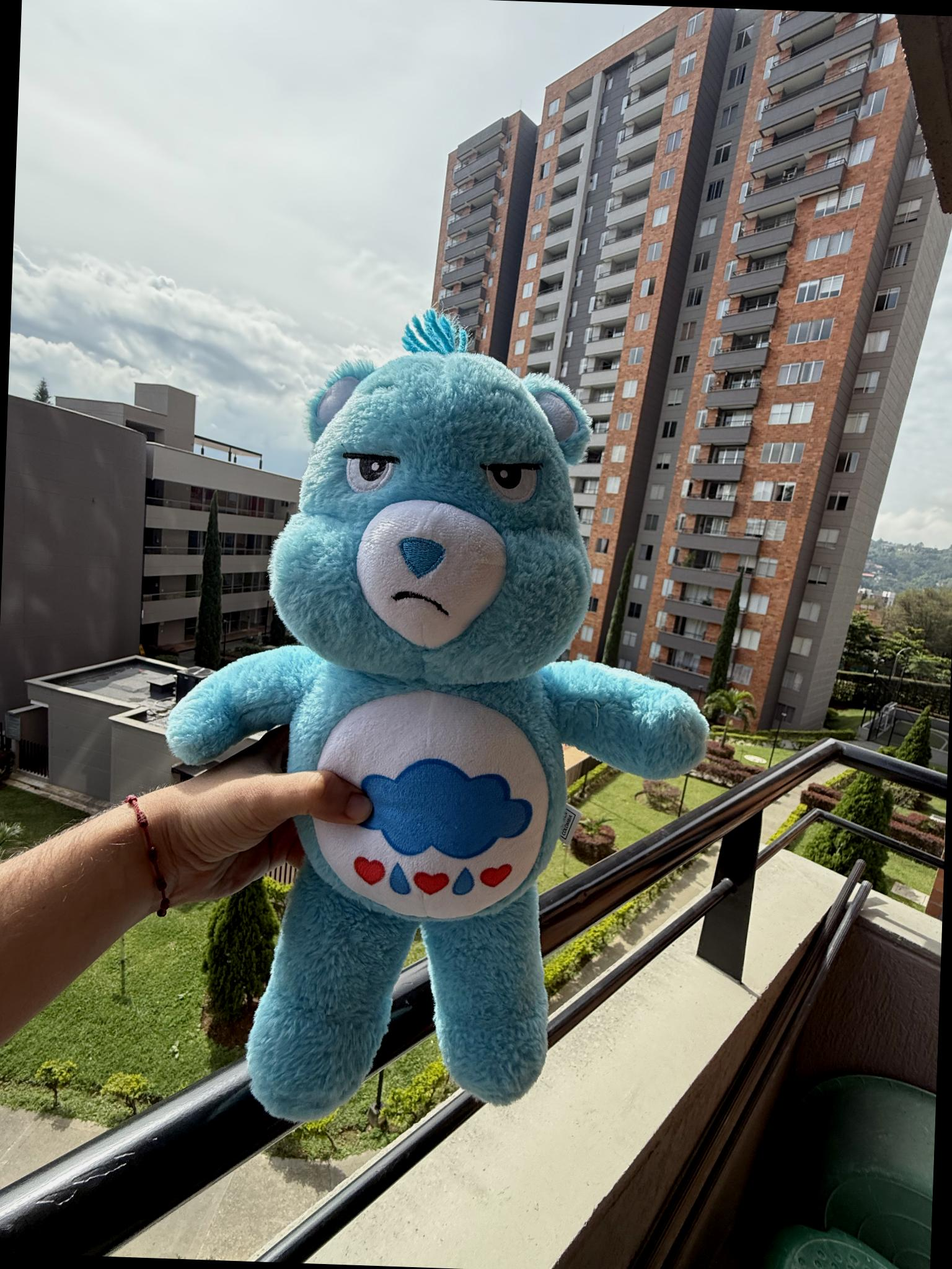peluche_Juan Jose: (151, 302, 722, 1137)
